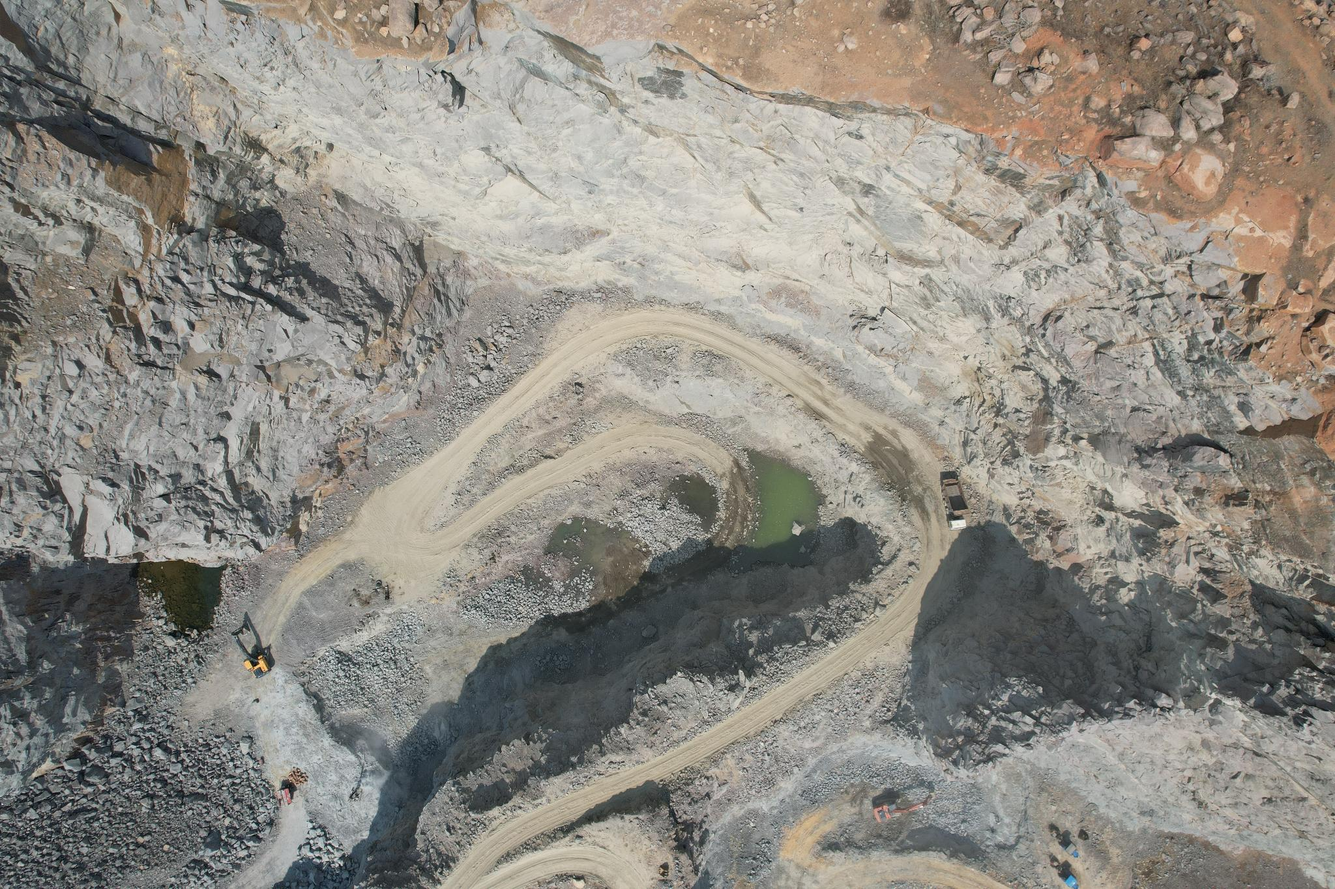benches: (268, 309, 948, 889)
excavator: (222, 622, 285, 695), (868, 794, 935, 834)
truck: (935, 468, 977, 532)
